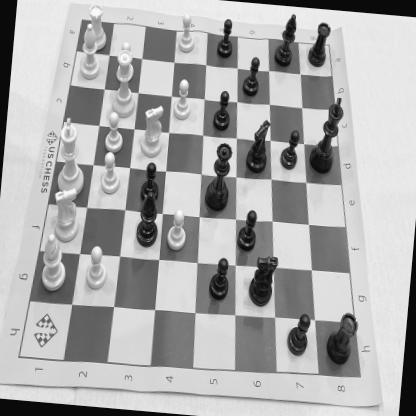black-bishop: (272, 9, 300, 68), (134, 190, 162, 249)
black-king: (309, 94, 346, 174)
black-knight: (247, 252, 280, 309), (245, 118, 272, 175)
black-pawn: (283, 312, 312, 360), (206, 255, 233, 303), (235, 206, 259, 254), (278, 128, 302, 172), (210, 88, 233, 132), (140, 160, 162, 206), (240, 54, 262, 98), (217, 17, 236, 61)
black-queen: (203, 138, 235, 212)
black-rook: (323, 308, 360, 368), (306, 19, 333, 70)
white-bishop: (37, 233, 70, 292), (76, 22, 104, 82)
white-king: (53, 115, 90, 198)
white-knight: (48, 186, 82, 243), (138, 104, 167, 160)
white-pawn: (82, 244, 110, 294), (98, 150, 123, 197), (102, 109, 127, 153), (166, 206, 189, 252), (172, 77, 194, 122), (176, 12, 198, 55), (115, 41, 136, 81)
white-queen: (106, 48, 142, 120)
white-rook: (84, 0, 110, 52)
